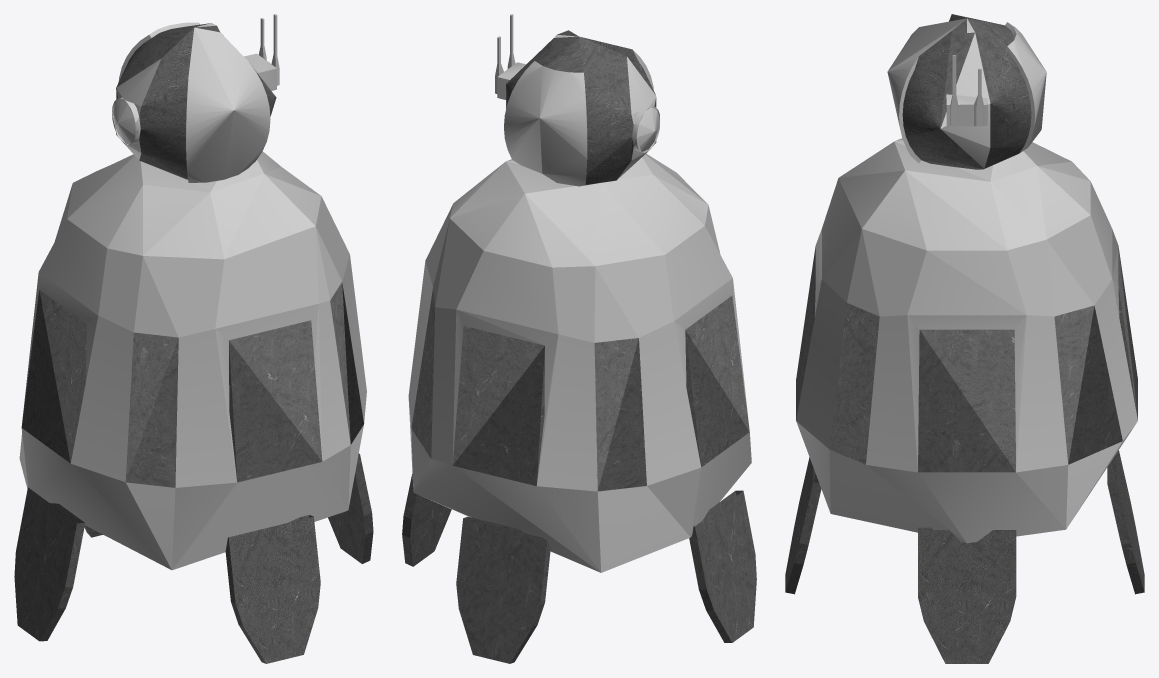
The model's file is LowPolyReconDrone.fbx.
3 renders of one model, left to right at view 1: azimuth 30°, elevation 25°; view 2: azimuth 150°, elevation 25°; view 3: azimuth 270°, elevation 25°, orthographic.
Visible parts, largest first — view 1: polySurface95, polySurface92, polySurface87, polySurface81, polySurface86; view 2: polySurface95, polySurface92, polySurface78, polySurface81, polySurface86; view 3: polySurface95, polySurface92, polySurface86, polySurface78, polySurface87.
Part boxes in pixels (bbox=[...]): polySurface95: bbox=[19, 151, 366, 570]; polySurface92: bbox=[112, 14, 279, 182]; polySurface87: bbox=[225, 515, 320, 663]; polySurface81: bbox=[14, 487, 85, 641]; polySurface86: bbox=[328, 453, 373, 563]; polySurface95: bbox=[408, 153, 751, 572]; polySurface92: bbox=[495, 14, 659, 186]; polySurface78: bbox=[456, 516, 550, 663]; polySurface81: bbox=[689, 490, 756, 642]; polySurface86: bbox=[402, 474, 451, 566]; polySurface95: bbox=[796, 138, 1137, 543]; polySurface92: bbox=[887, 14, 1046, 169]; polySurface86: bbox=[918, 527, 1016, 663]; polySurface78: bbox=[1107, 450, 1144, 594]; polySurface87: bbox=[785, 457, 821, 594].
Bounding box in the file's own units: 5.55 × 9.09 × 5.22.
